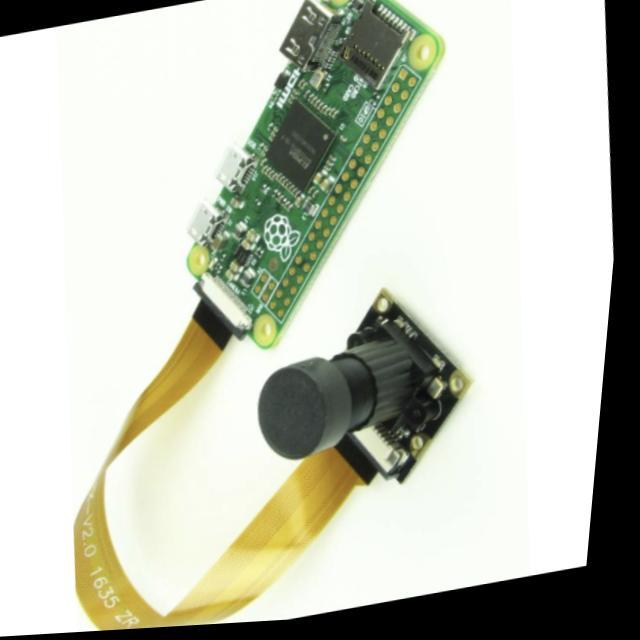Raspberry-Pi-Zero: (188, 1, 443, 348)
